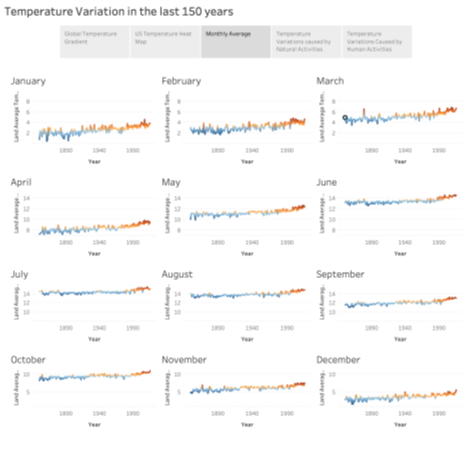

The page's visual inventory and layout, read from the dashboard file:
{"tool":"tableau","page":{"name":"Dashboard 3","canvas":[1000,800],"ordinal":2},"visuals":[{"type":"worksheet","title":"January","mark":"Automatic","rows":["LandAverageTemperature"],"cols":["dt"],"box":[8,8,325,218]},{"type":"worksheet","title":"February","mark":"Automatic","rows":["LandAverageTemperature"],"cols":["dt"],"box":[333,8,333,218]},{"type":"worksheet","title":"March","mark":"Automatic","rows":["LandAverageTemperature"],"cols":["dt"],"box":[666,8,326,218]},{"type":"worksheet","title":"April","mark":"Automatic","rows":["LandAverageTemperature"],"cols":["dt"],"box":[8,226,325,198]},{"type":"worksheet","title":"May","mark":"Automatic","rows":["LandAverageTemperature"],"cols":["dt"],"box":[333,226,333,198]},{"type":"worksheet","title":"June","mark":"Automatic","rows":["LandAverageTemperature"],"cols":["dt"],"box":[666,226,326,198]},{"type":"worksheet","title":"July","mark":"Automatic","rows":["LandAverageTemperature"],"cols":["dt"],"box":[8,424,325,184]},{"type":"worksheet","title":"August","mark":"Automatic","rows":["LandAverageTemperature"],"cols":["dt"],"box":[333,424,333,184]},{"type":"worksheet","title":"September","mark":"Automatic","rows":["LandAverageTemperature"],"cols":["dt"],"box":[666,424,326,184]},{"type":"worksheet","title":"October","mark":"Automatic","rows":["LandAverageTemperature"],"cols":["dt"],"box":[8,608,325,184]},{"type":"worksheet","title":"November","mark":"Automatic","rows":["LandAverageTemperature"],"cols":["dt"],"box":[333,608,333,184]},{"type":"worksheet","title":"December","mark":"Automatic","rows":["LandAverageTemperature"],"cols":["dt"],"box":[666,608,326,184]}]}

Visuals, with their boxes on the page's 1000x800 design canvas (x1, y1, x2, y2). These are canvas units, not pixel positions in the 473x449 screenshot, which may show the page scaled, cropped or inside an application window:
"January" worksheet: 8,8,333,226
"February" worksheet: 333,8,666,226
"March" worksheet: 666,8,992,226
"April" worksheet: 8,226,333,424
"May" worksheet: 333,226,666,424
"June" worksheet: 666,226,992,424
"July" worksheet: 8,424,333,608
"August" worksheet: 333,424,666,608
"September" worksheet: 666,424,992,608
"October" worksheet: 8,608,333,792
"November" worksheet: 333,608,666,792
"December" worksheet: 666,608,992,792
